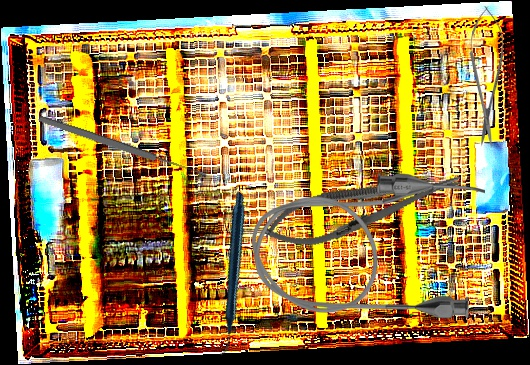Cannula: (252, 173, 485, 319)
Handpiece: (148, 190, 312, 357)
Micro Scissor: (469, 6, 504, 148)
Needle Holder: (259, 157, 467, 258)
Surgical Spoon: (37, 113, 208, 181)
